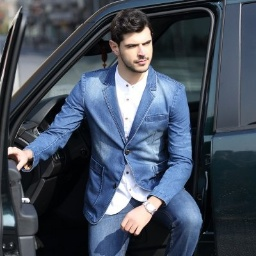face: (110, 8, 155, 74)
